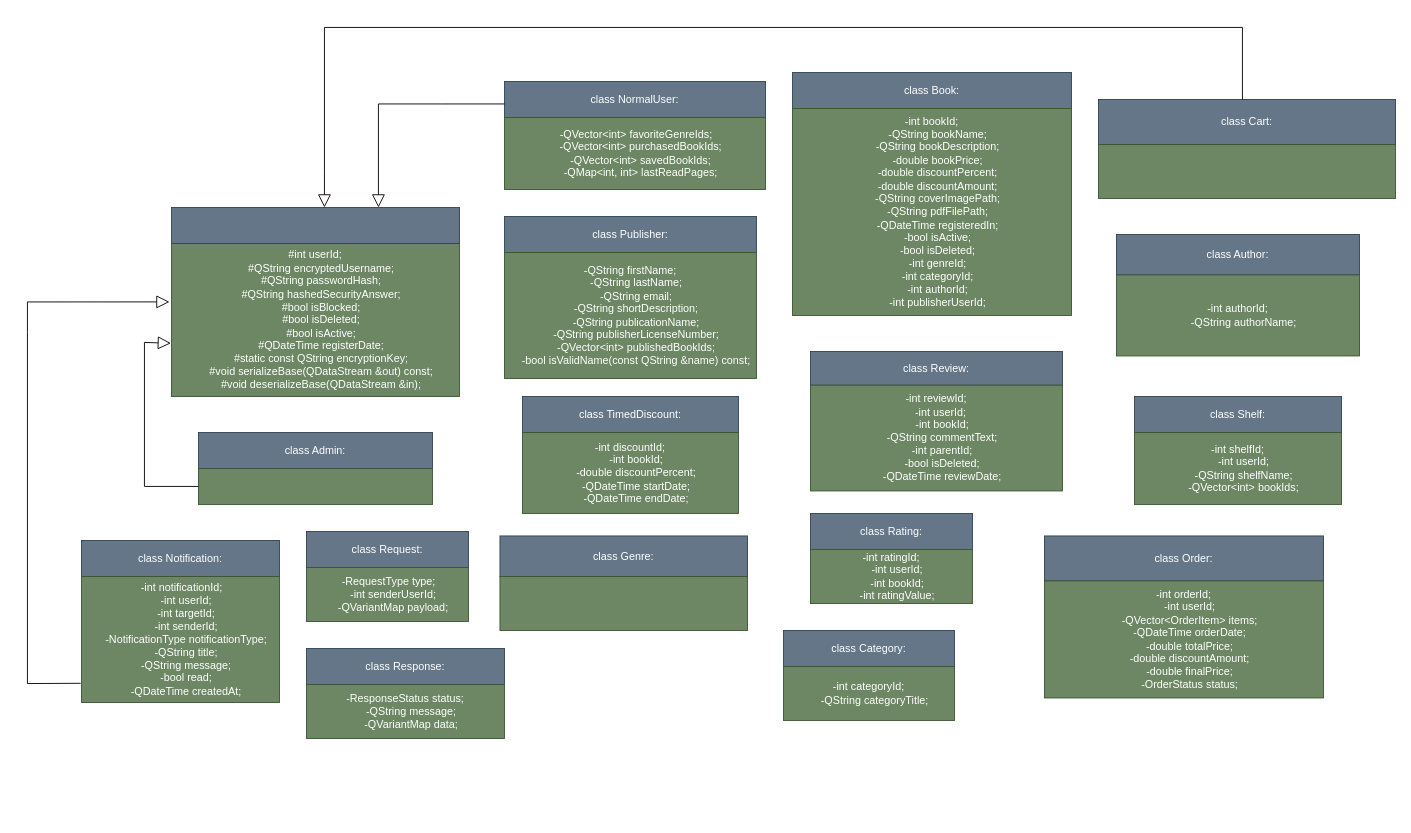
Image size: 1411x833. Some labels were removed from this diagram. Each missing label, with the centre of its shape:
"-int cartId; -int userId; -QVector<CartItem> items; -QDateTime lastUpdated;" goes at (1246,171).
"-int genreId; -QString genreTitle;" goes at (623,603).
"-QString firstName; -QString lastName;" goes at (315,486).
"class User:" goes at (315,225).
